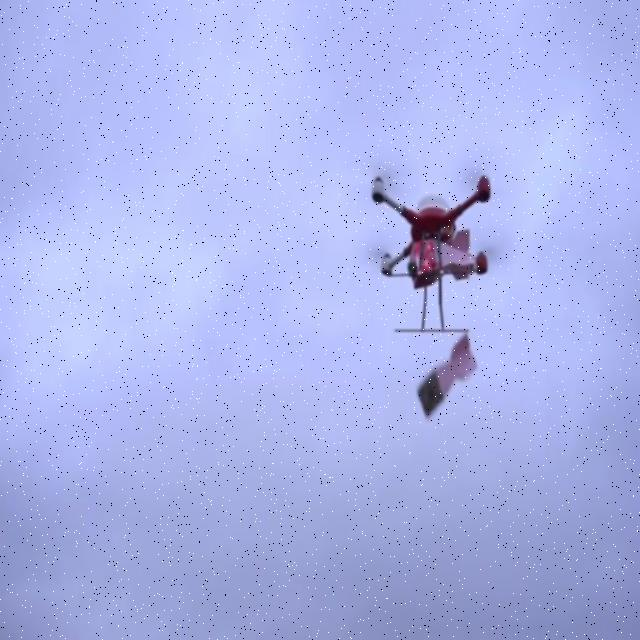UAV: (368, 170, 498, 332)
